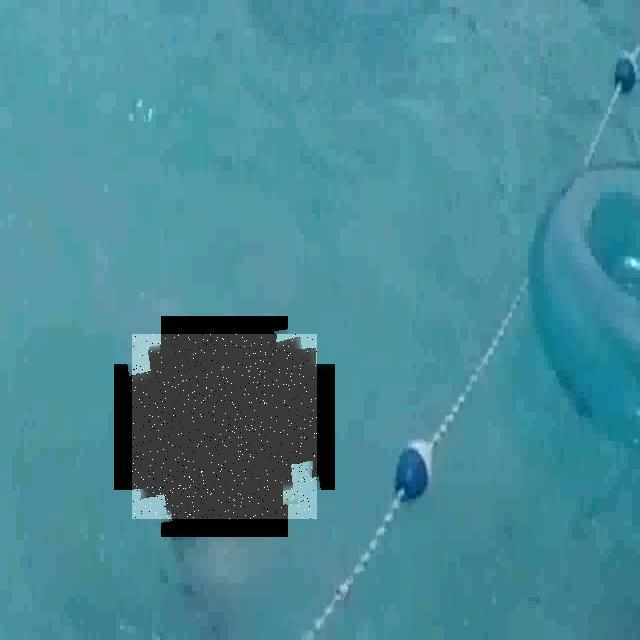Out of Water: (132, 334, 317, 519)
